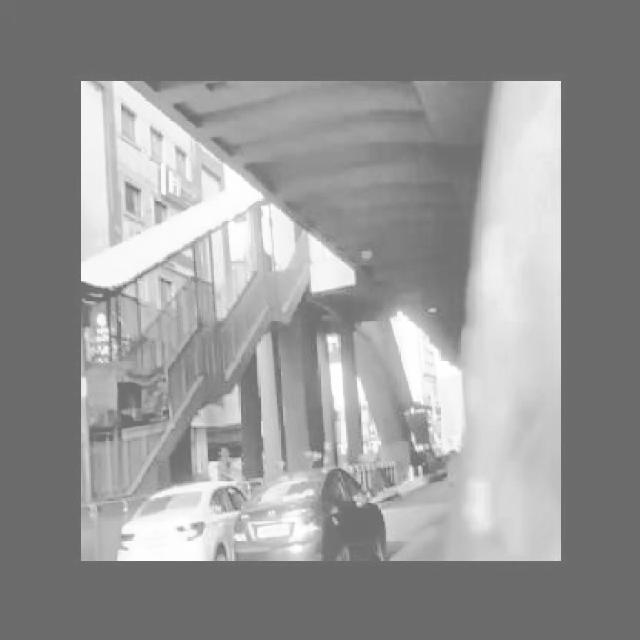Car: (246, 461, 387, 564), (120, 471, 251, 562)
